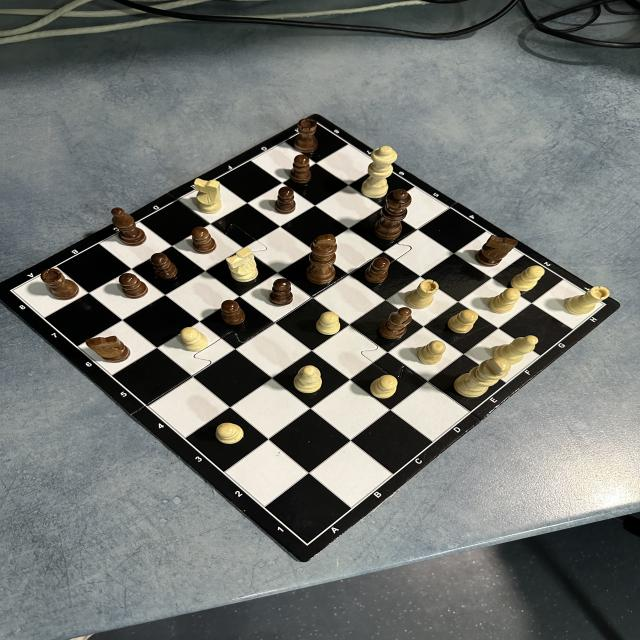Black-Bishop: (110, 207, 146, 247), (377, 306, 414, 340)
Black-King: (306, 233, 338, 285)
Black-Knight: (474, 235, 520, 268), (86, 336, 131, 364)
Black-Pawn: (150, 252, 178, 280), (118, 273, 148, 299), (191, 226, 217, 255), (364, 256, 390, 284), (220, 300, 246, 326), (269, 278, 293, 306), (290, 154, 312, 184), (274, 186, 296, 215)
Black-Queen: (373, 188, 412, 240)
Black-Rook: (40, 268, 80, 301), (292, 118, 318, 154)
White-Bishop: (492, 335, 538, 362), (292, 365, 322, 394)
White-King: (453, 356, 511, 398)
White-Knight: (226, 247, 259, 283), (193, 178, 222, 214)
White-Pawn: (509, 265, 546, 292), (489, 288, 521, 314), (448, 309, 479, 334), (179, 326, 208, 352), (417, 339, 446, 365), (370, 374, 398, 399), (316, 310, 340, 336), (216, 422, 244, 444)
White-Queen: (360, 146, 398, 200)
White-Rook: (564, 286, 611, 315), (404, 279, 440, 310)
